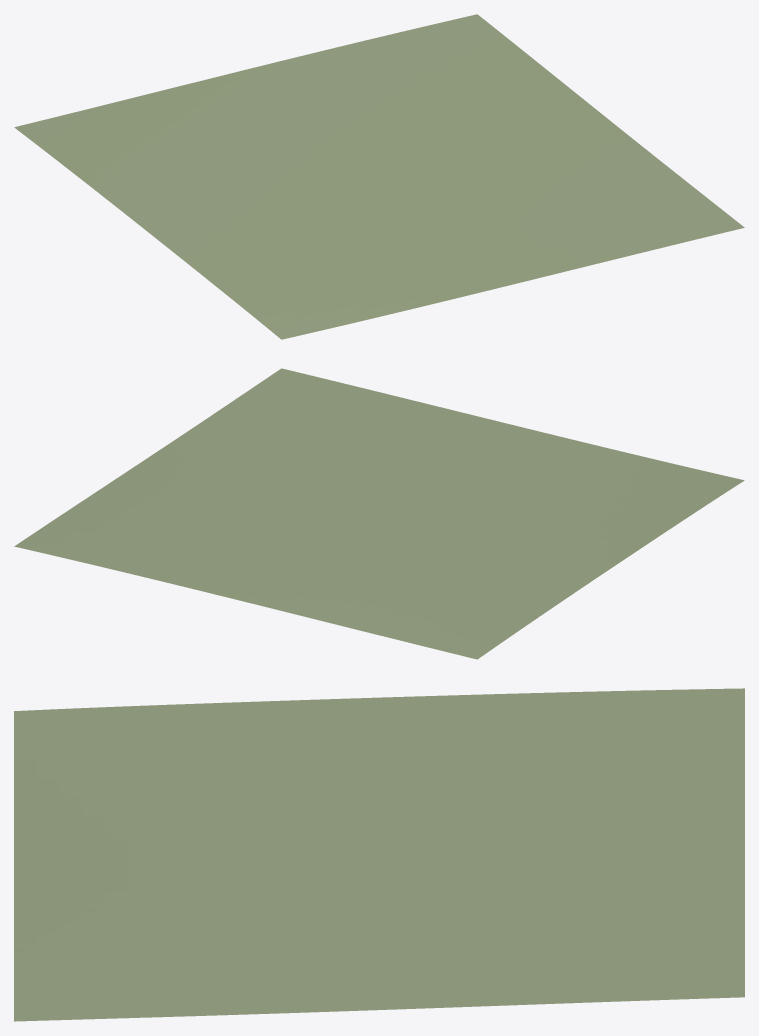
Rendered from expanse-2-3.glb.
3 renders of one model, top to bottom at view 1: azimuth 30°, elevation 25°; view 2: azimuth 150°, elevation 25°; view 3: azimuth 270°, elevation 25°, orthographic. The views are drawn at different scales.
Parts seen in each view (by area): view 1: expanse-2-3; view 2: expanse-2-3; view 3: expanse-2-3.
Boxes of the visible parts, x1,y1,x2,y2 form: expanse-2-3: (14,14,744,339); expanse-2-3: (14,368,744,659); expanse-2-3: (14,688,744,1021).
Bounding box in the file's own units: 256 × 10.07 × 256.
